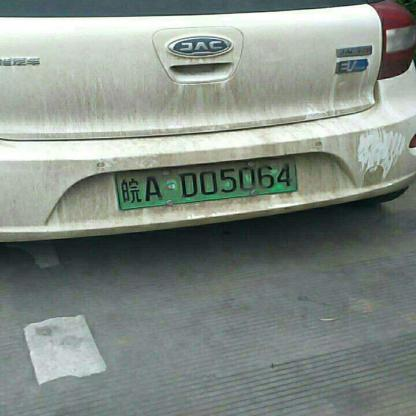lp: (116, 156, 299, 209)
